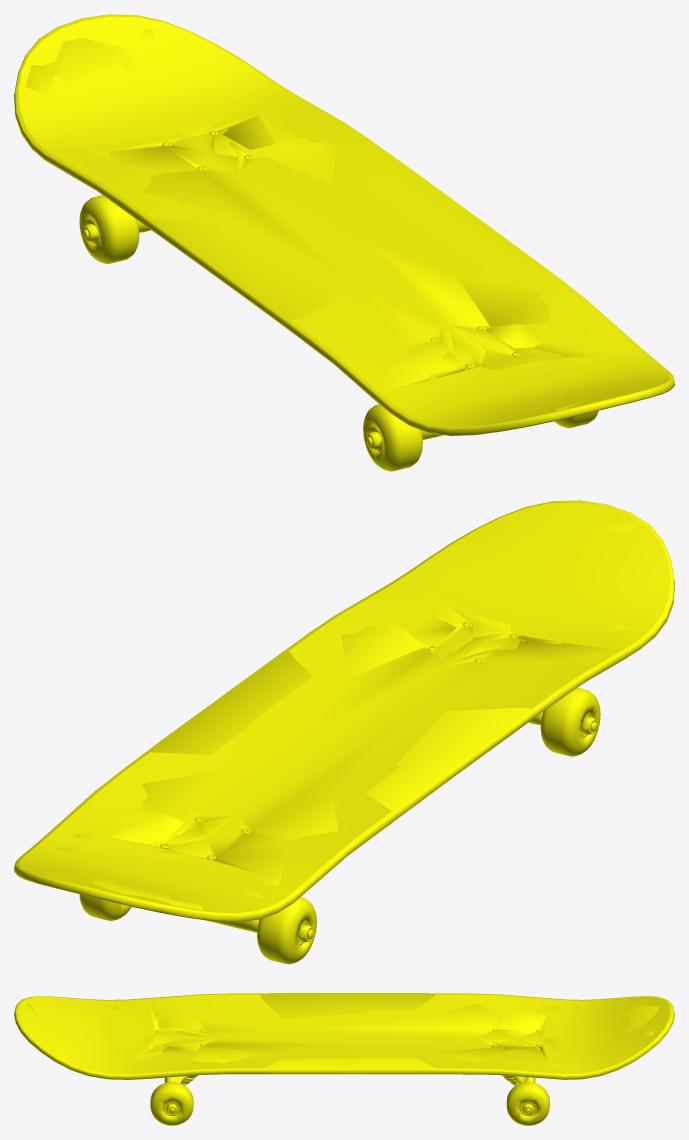
The model's file is board.glb.
3 renders of one model, top to bottom at view 1: azimuth 30°, elevation 25°; view 2: azimuth 150°, elevation 25°; view 3: azimuth 270°, elevation 25°, orthographic. The views are drawn at different scales.
Parts seen in each view (by area): view 1: FULL; view 2: FULL; view 3: FULL.
Part boxes in pixels (x1,y1,x2,y2): FULL: [14, 14, 674, 471]; FULL: [14, 500, 674, 964]; FULL: [14, 993, 674, 1125].
Size of the model in its own units: 0.2196 by 0.1132 by 0.7958.
